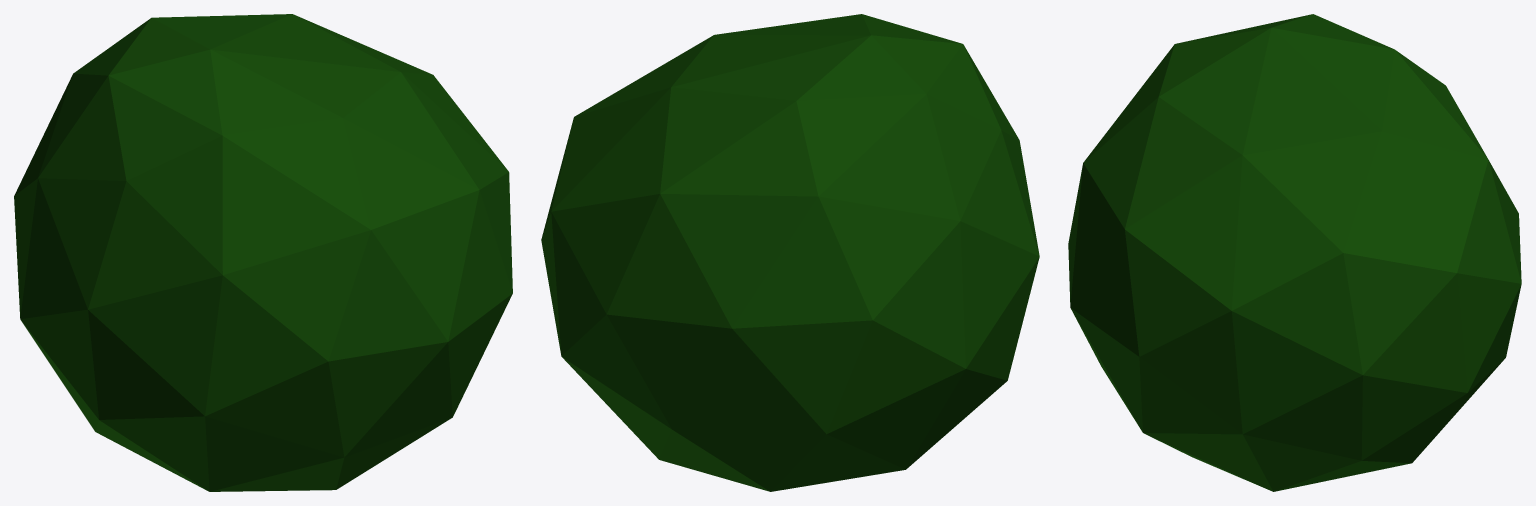
The picture shows the model from 3 angles, left to right: view 1: azimuth 30°, elevation 25°; view 2: azimuth 150°, elevation 25°; view 3: azimuth 270°, elevation 25°; orthographic projection. The views are drawn at different scales.
Visible parts, largest first — view 1: Icosphere.018; view 2: Icosphere.018; view 3: Icosphere.018.
Boxes of the visible parts, x1,y1,x2,y2 form: Icosphere.018: (14,14,512,491); Icosphere.018: (541,14,1039,491); Icosphere.018: (1068,14,1521,491).
Bounding box in the file's own units: 0.6258 × 0.6256 × 0.6221.
